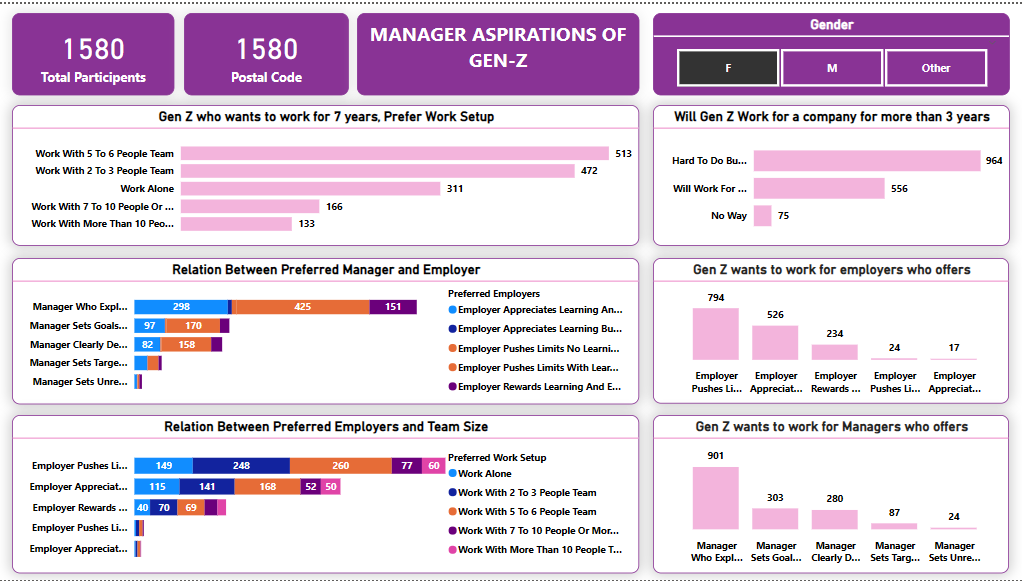

What the dashboard file says about the page in this screenshot:
{"tool":"powerbi","page":{"name":"Manager Aspirations","canvas":[1280,720],"ordinal":2},"visuals":[{"type":"card","fields":{"Values":["CountNonNull(Career Aspiration.Postal Code)"]},"box":[15.7,11.4,202.9,102.9],"z":0},{"type":"card","fields":{"Values":["CountNonNull(Career Aspiration.Postal Code)"]},"box":[231.4,11.4,205.7,102.9],"z":1000},{"type":"textbox","box":[447.1,11.4,352.9,102.9],"z":2000},{"type":"slicer","title":"Gender","fields":{"Values":["Career Aspiration.Gender"]},"box":[817.1,11.4,445.7,102.9],"z":3000},{"type":"clusteredBarChart","title":"Gen Z who wants to work for 7 years, Prefer Work Setup","fields":{"Category":["Career Aspiration.Preferred Work Setup"],"Y":["CountNonNull(Career Aspiration.Work For One Employer 7 Years Or More)"]},"box":[15.7,125.7,784.3,175.7],"z":4000},{"type":"clusteredBarChart","title":"Will Gen Z Work for a company for more than 3 years ","fields":{"Category":["Career Aspiration.Job Stability 3 Years Or More"],"Y":["CountNonNull(Career Aspiration.Job Stability 3 Years Or More)"]},"box":[817.1,125.7,445.7,175.7],"z":5000},{"type":"barChart","title":"Relation Between Preferred Manager and Employer","fields":{"Category":["Career Aspiration.Manager Type"],"Series":["Career Aspiration.Preferred Employers"],"Y":["CountNonNull(Career Aspiration.Manager Type)"]},"box":[16.2,317.5,783.8,182.5],"z":6000},{"type":"barChart","title":"Relation Between Preferred Employers and Team Size","fields":{"Category":["Career Aspiration.Preferred Employers"],"Series":["Career Aspiration.Preferred Work Setup"],"Y":["CountNonNull(Career Aspiration.Preferred Employers)"]},"box":[16.2,513.8,783.8,197.5],"z":7000},{"type":"clusteredColumnChart","title":"Gen Z wants to work for employers who offers","fields":{"Category":["Career Aspiration.Preferred Employers"],"Y":["CountNonNull(Career Aspiration.Preferred Employers)"]},"box":[817.7,317.7,445.3,182.3],"z":8000},{"type":"clusteredColumnChart","title":"Gen Z wants to work for Managers who offers","fields":{"Category":["Career Aspiration.Manager Type"],"Y":["CountNonNull(Career Aspiration.Manager Type)"]},"box":[817.7,514.3,445.3,197.9],"z":9000}]}

Visuals, with their boxes in screenshot pixels (x1, y1, x2, y2), scaled from the page's 1280x720 canvas onto the 1023x581 screenshot:
card - CountNonNull(Career Aspiration.Postal Code): left=13, top=9, right=175, bottom=92
card - CountNonNull(Career Aspiration.Postal Code): left=185, top=9, right=349, bottom=92
textbox: left=357, top=9, right=639, bottom=92
"Gender" slicer: left=653, top=9, right=1009, bottom=92
"Gen Z who wants to work for 7 years, Prefer Work Setup" clusteredBarChart: left=13, top=101, right=639, bottom=243
"Will Gen Z Work for a company for more than 3 years " clusteredBarChart: left=653, top=101, right=1009, bottom=243
"Relation Between Preferred Manager and Employer" barChart: left=13, top=256, right=639, bottom=403
"Relation Between Preferred Employers and Team Size" barChart: left=13, top=415, right=639, bottom=574
"Gen Z wants to work for employers who offers" clusteredColumnChart: left=654, top=256, right=1009, bottom=403
"Gen Z wants to work for Managers who offers" clusteredColumnChart: left=654, top=415, right=1009, bottom=575
